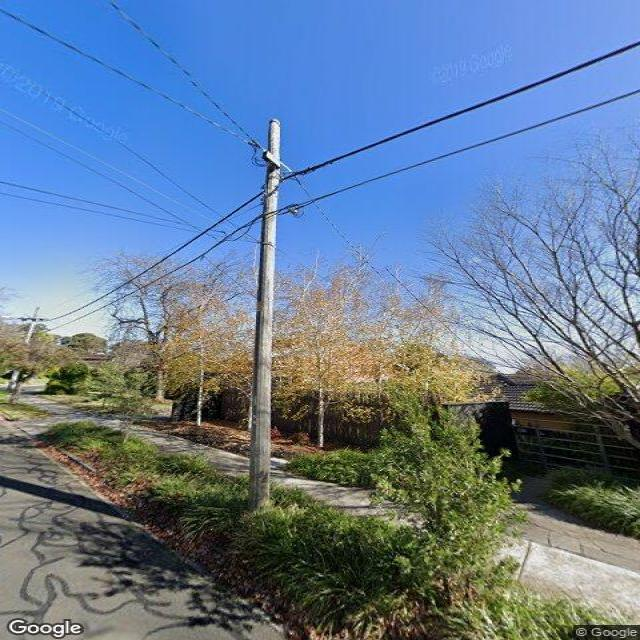crossarm: (15, 316, 48, 322)
timber-pole: (248, 119, 282, 509), (8, 307, 40, 391)
